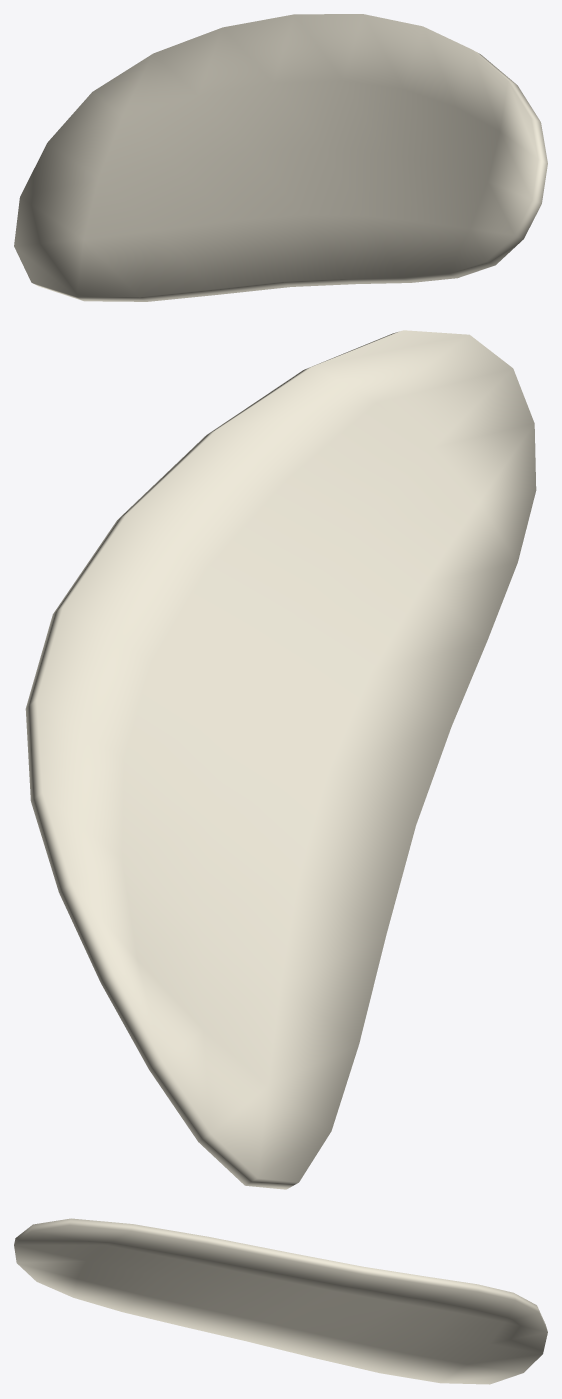
3 renders of one model, top to bottom at view 1: azimuth 30°, elevation 25°; view 2: azimuth 150°, elevation 25°; view 3: azimuth 270°, elevation 25°, orthographic. The views are drawn at different scales.
Parts seen in each view (by area): view 1: ZA_c173131168019a6a; view 2: ZA_c173131168019a6a; view 3: ZA_c173131168019a6a.
Boxes of the visible parts, x1,y1,x2,y2 form: ZA_c173131168019a6a: (14, 14, 547, 301); ZA_c173131168019a6a: (25, 330, 536, 1189); ZA_c173131168019a6a: (14, 1218, 547, 1384).
Bounding box in the file's own units: 0.0117 × 0.0141 × 0.0282.
